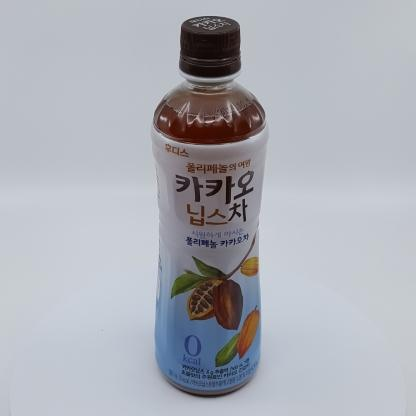------500ML: (150, 16, 269, 395)
